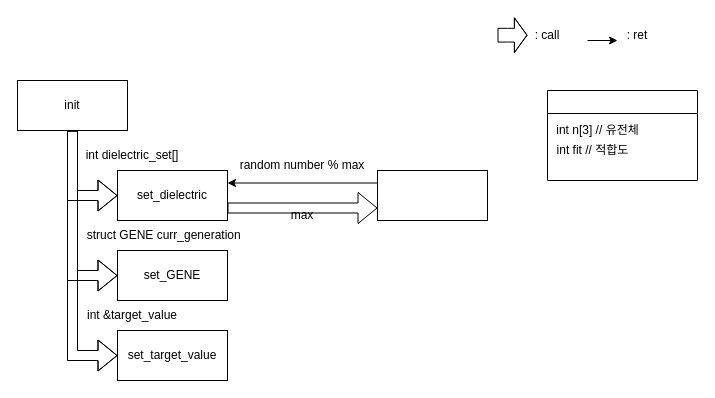
Image size: 715x398. Some labels were removed from this diagram. The box of each missing label's shape, as (x1, y1, x2, y2) in pixels:
get_rand_num: (376, 170, 488, 220)
struct GENE: (546, 90, 698, 180)
